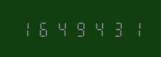four: (53, 20, 70, 37), (89, 20, 106, 37)
nine: (71, 20, 88, 37)
one: (17, 20, 34, 37), (125, 20, 142, 37)
six: (35, 20, 52, 37)
three: (107, 20, 124, 37)
